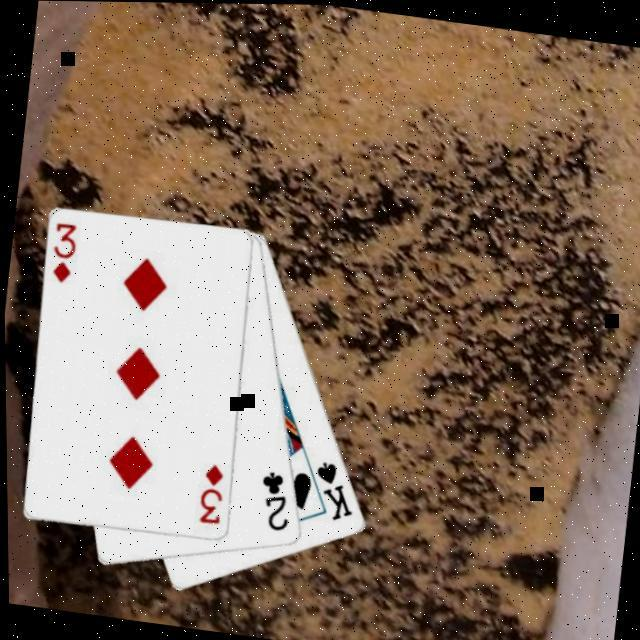2C: (251, 467, 296, 536)
3D: (45, 220, 82, 288), (193, 460, 229, 528)
KS: (306, 457, 361, 525)
